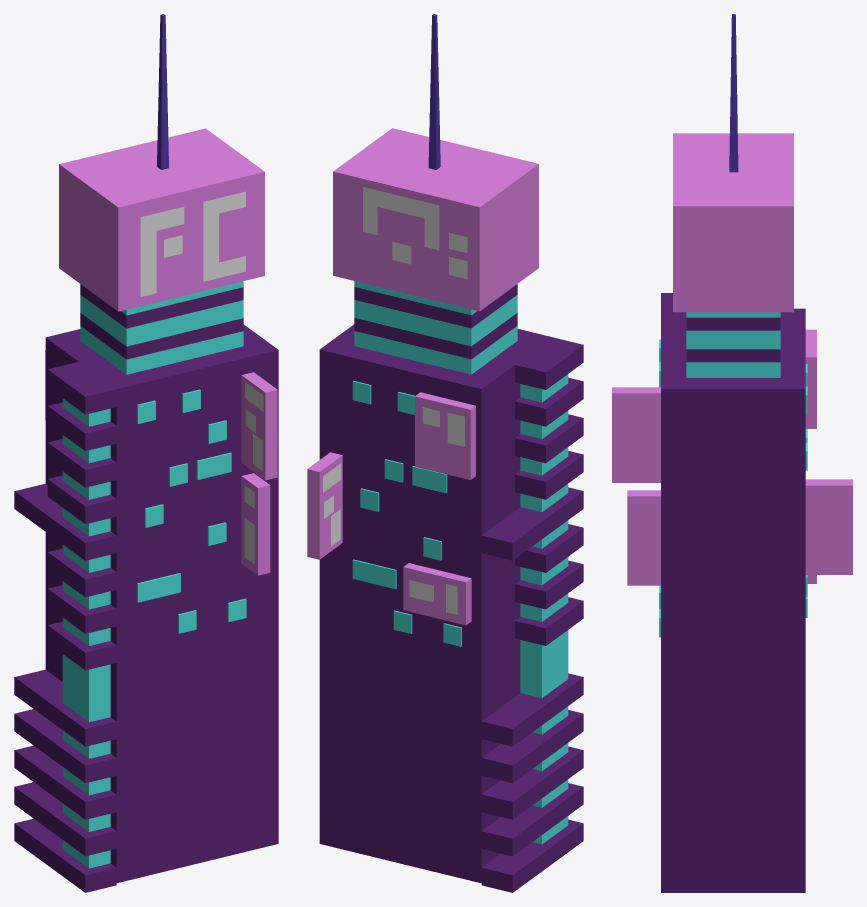
The model's file is Build_Base2.fbx.
3 views of the same model, side by side, from view 1: azimuth 30°, elevation 25°; view 2: azimuth 150°, elevation 25°; view 3: azimuth 270°, elevation 25° (orthographic).
Parts seen in each view (by area): view 1: Build_Base2; view 2: Build_Base2; view 3: Build_Base2.
Boxes of the visible parts, x1,y1,x2,y2 form: Build_Base2: (14, 14, 278, 892); Build_Base2: (307, 14, 583, 892); Build_Base2: (612, 14, 852, 892).
Size of the model in its own units: 275 by 1119 by 291.
